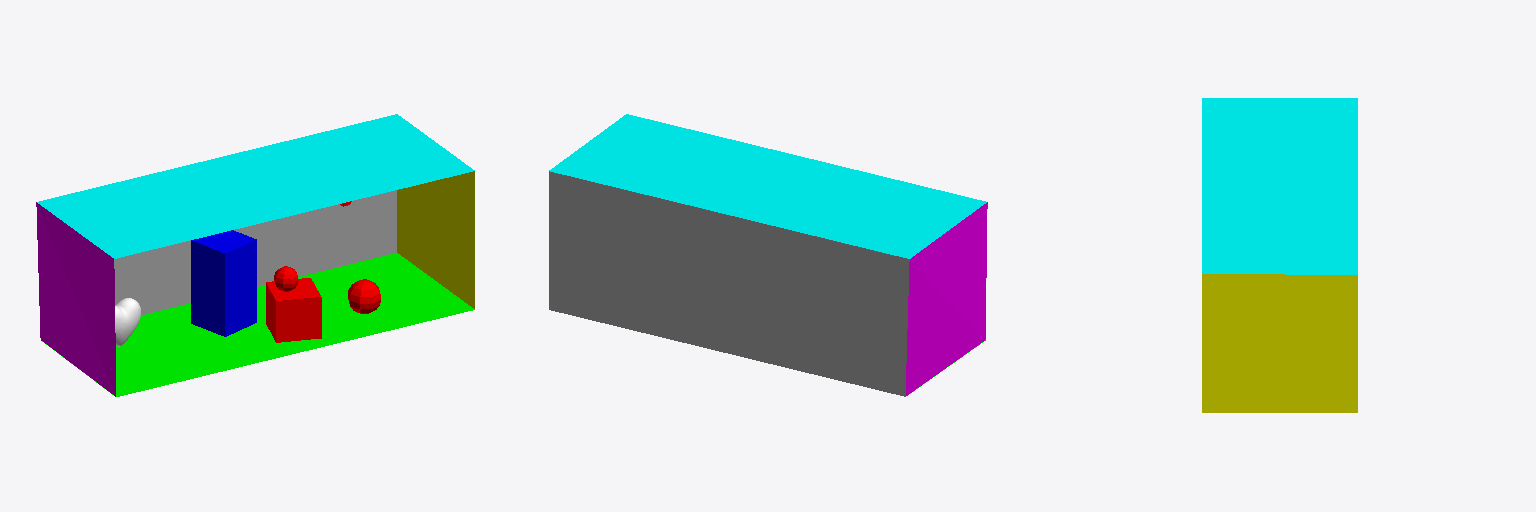
Rendered from heart.obj.
The picture shows the model from 3 angles: view 1: azimuth 30°, elevation 25°; view 2: azimuth 150°, elevation 25°; view 3: azimuth 270°, elevation 25°; orthographic projection.
Parts seen in each view (by area): view 1: ceiling, floor, back_wall, left_wall, right_wall, tall_box, short_box, 12190_Heart_v1_L3, sphere; view 2: back_wall, ceiling, left_wall; view 3: ceiling, right_wall.
Boxes of the visible parts, x1=… form: ceiling: x1=37, y1=114, x2=474, y2=258; floor: x1=42, y1=253, x2=474, y2=396; back_wall: x1=114, y1=190, x2=396, y2=314; left_wall: x1=36, y1=202, x2=115, y2=396; right_wall: x1=397, y1=171, x2=474, y2=308; tall_box: x1=191, y1=230, x2=256, y2=336; short_box: x1=266, y1=278, x2=321, y2=342; 12190_Heart_v1_L3: x1=115, y1=298, x2=140, y2=346; sphere: x1=348, y1=279, x2=380, y2=313; back_wall: x1=549, y1=171, x2=909, y2=396; ceiling: x1=549, y1=114, x2=986, y2=258; left_wall: x1=906, y1=202, x2=987, y2=395; ceiling: x1=1202, y1=98, x2=1357, y2=274; right_wall: x1=1202, y1=274, x2=1357, y2=412.
Size of the model in its own units: 14.95 by 5.5 by 5.6.